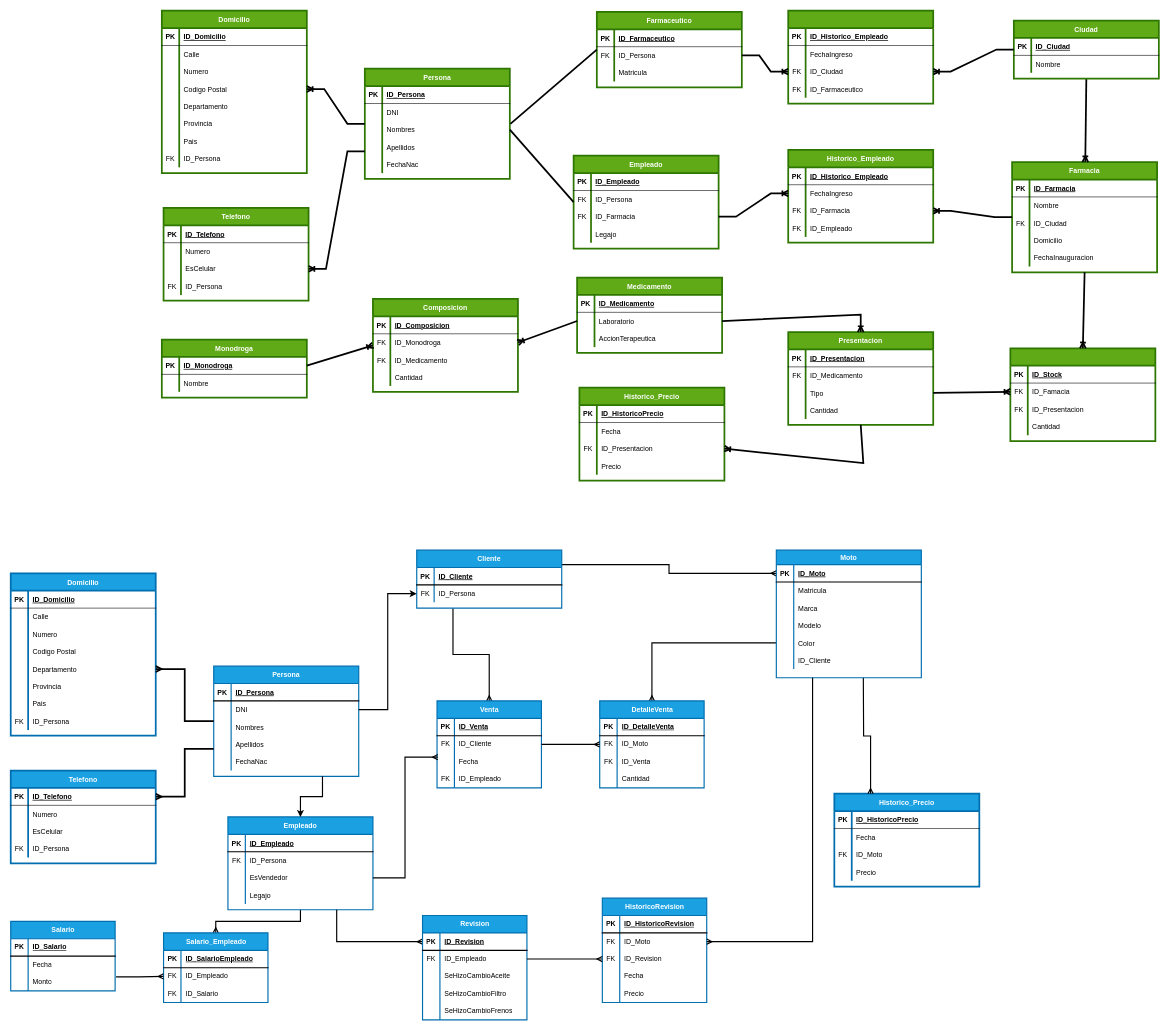
This 1170x1031 diagram has some shape labels left out. Here are the shapes that lost their labels. From the top down, the box of each, then its label:
(787, 10, 934, 104): Historico_Farmaceutico
(1009, 347, 1156, 442): Stock(Farmacia_Presentacion)
